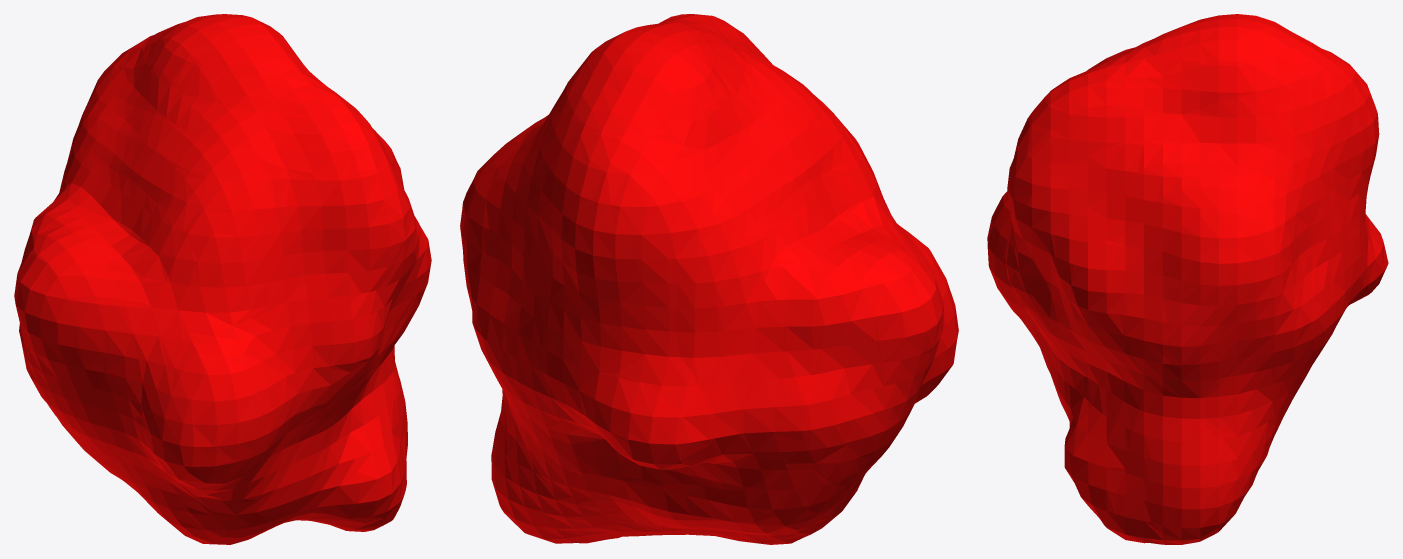
The model's file is sixA_coarse.dae.
3 renders of one model, left to right at view 1: azimuth 30°, elevation 25°; view 2: azimuth 150°, elevation 25°; view 3: azimuth 270°, elevation 25°, orthographic. The views are drawn at different scales.
Parts seen in each view (by area): view 1: sixA; view 2: sixA; view 3: sixA.
Part boxes in pixels (x1=…): sixA: x1=14, y1=14, x2=431, y2=544; sixA: x1=460, y1=14, x2=958, y2=544; sixA: x1=987, y1=14, x2=1388, y2=544.
Bounding box in the file's own units: 39.95 × 47.83 × 36.68.
